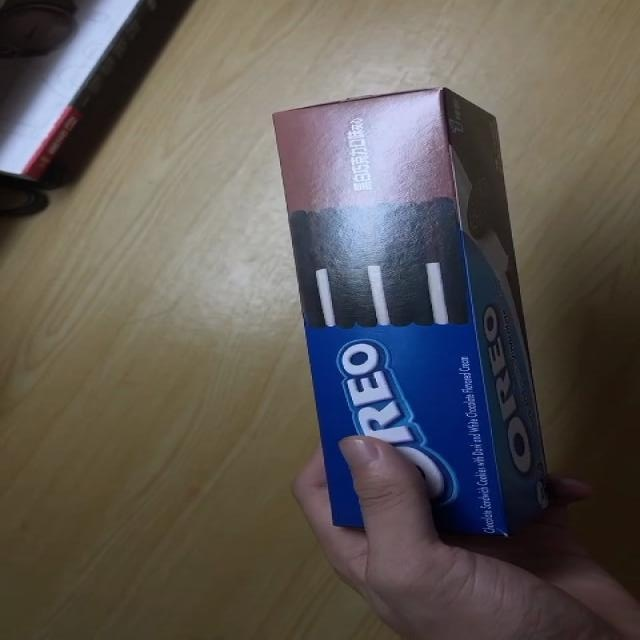Oreo: (271, 86, 552, 541)
